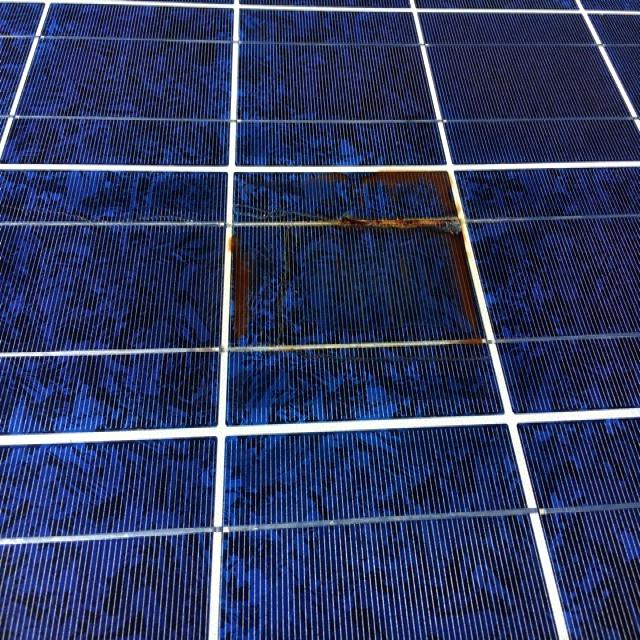shadow: (226, 162, 489, 378)
